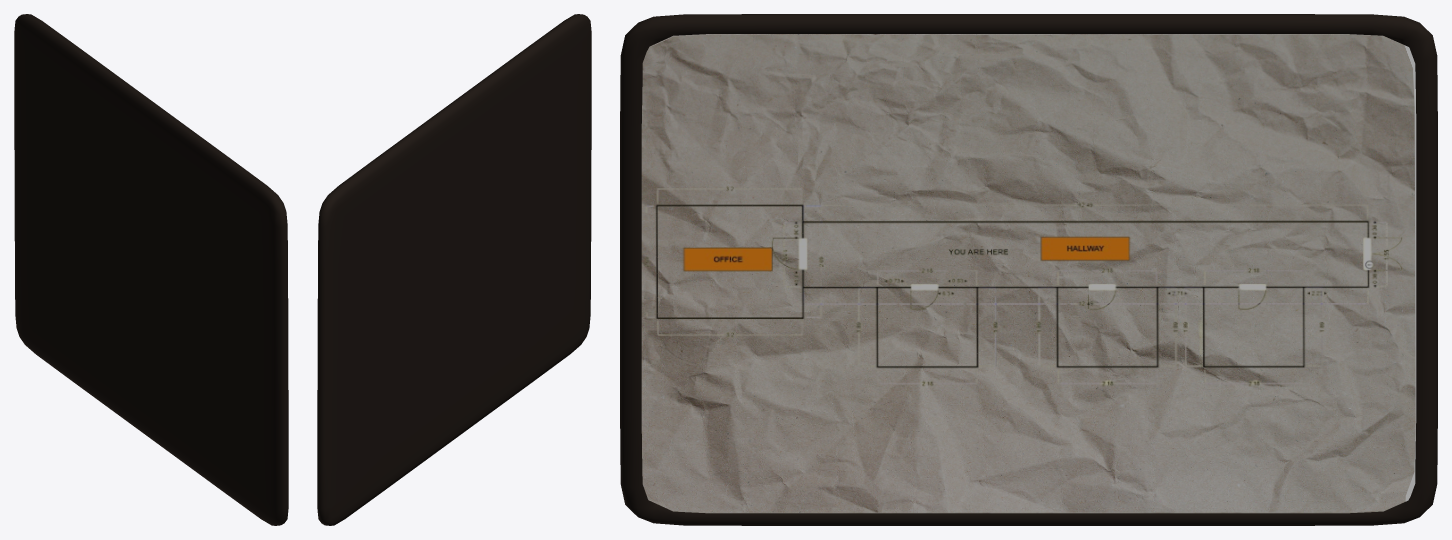
The model's file is MappaCorridoio.fbx.
The picture shows the model from 3 angles, left to right: view 1: azimuth 30°, elevation 25°; view 2: azimuth 150°, elevation 25°; view 3: azimuth 270°, elevation 25°; orthographic projection. The views are drawn at different scales.
Visible parts, largest first — view 1: MappaCorridoio; view 2: MappaCorridoio; view 3: MappaCorridoio.
Boxes of the visible parts, left/top/right/bottom form: MappaCorridoio: left=14, top=14, right=288, bottom=525; MappaCorridoio: left=317, top=14, right=591, bottom=525; MappaCorridoio: left=620, top=14, right=1437, bottom=525.
Size of the model in its own units: 4.41 by 112 by 162.
Materials: 2 (1 with a texture image).
